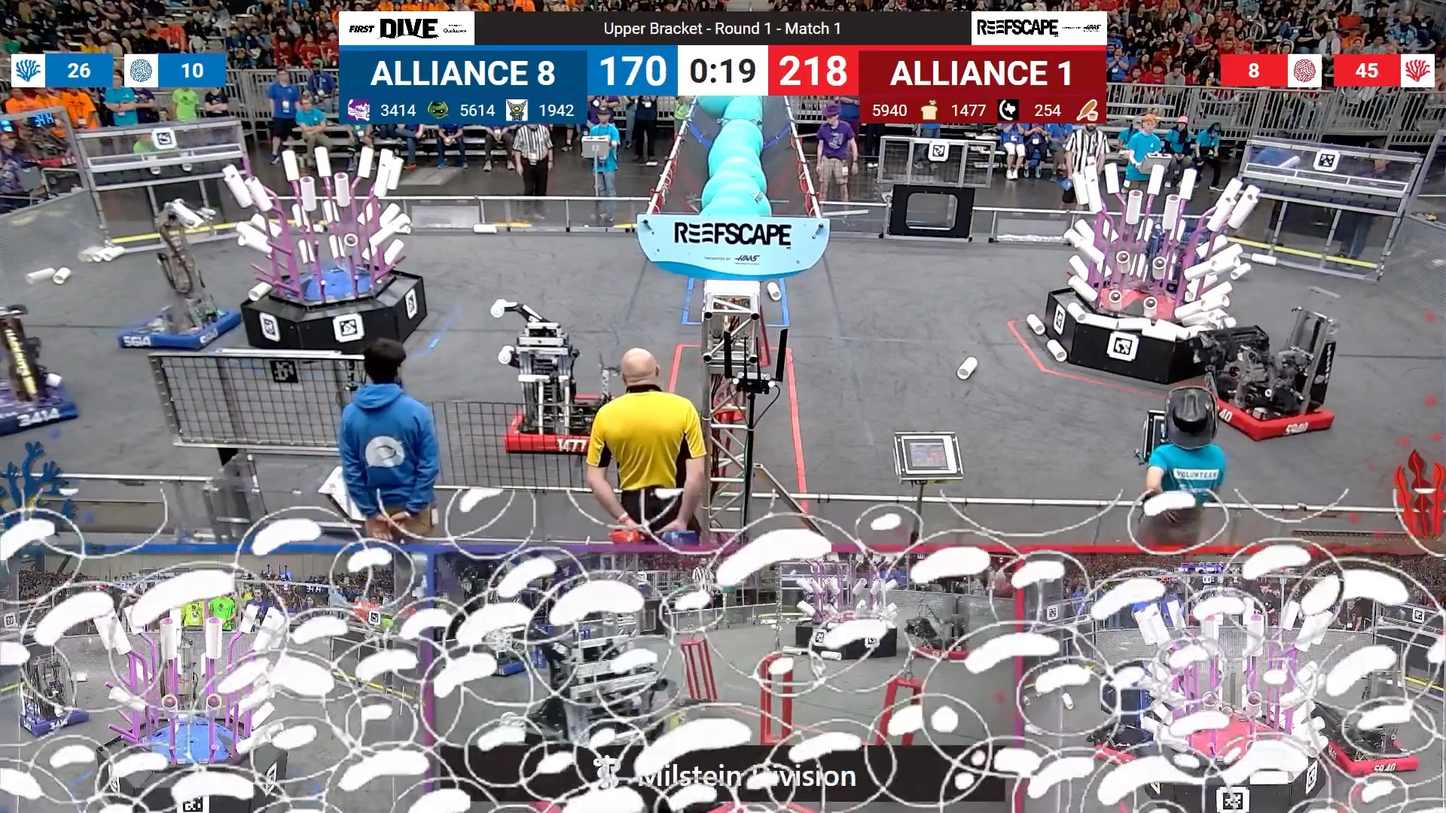bumpers: (1179, 374, 1350, 446), (117, 300, 246, 355), (496, 401, 607, 459), (0, 368, 84, 444), (1315, 729, 1427, 781), (6, 697, 97, 741), (908, 637, 986, 666)
